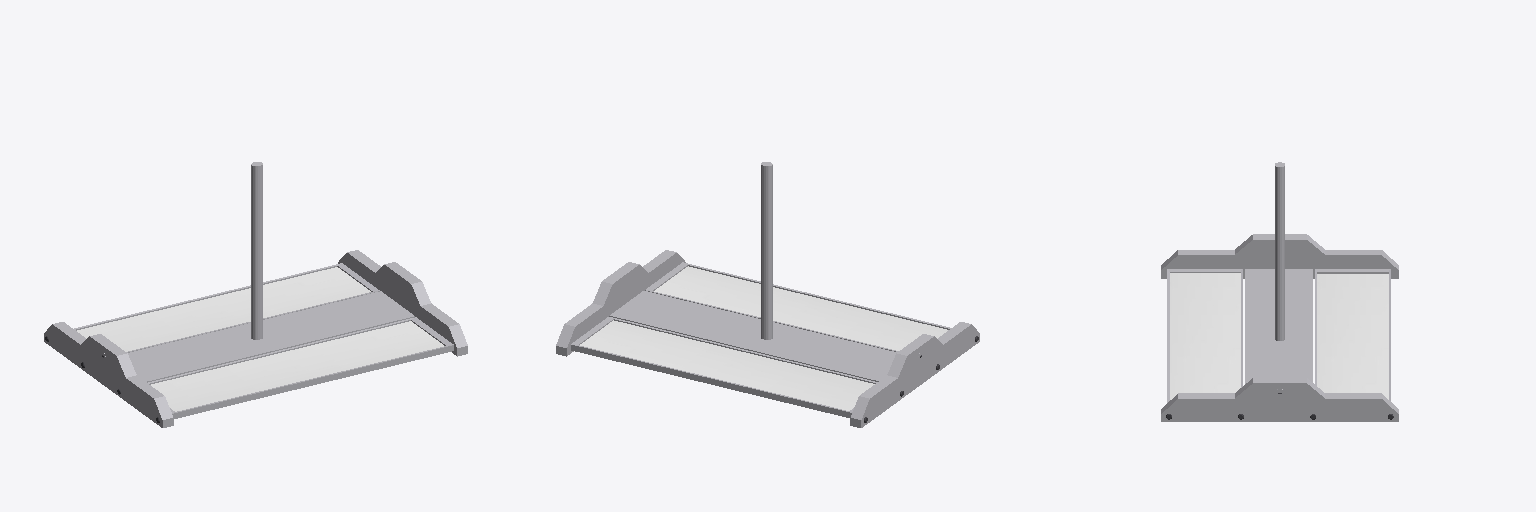
The picture shows the model from 3 angles: view 1: azimuth 30°, elevation 25°; view 2: azimuth 150°, elevation 25°; view 3: azimuth 270°, elevation 25°; orthographic projection.
Visible parts, largest first — view 1: luz_techo:polySurface10; view 2: luz_techo:polySurface10; view 3: luz_techo:polySurface10.
Boxes of the visible parts, box(x1,y1,x2,y2) form: luz_techo:polySurface10: box(44, 162, 467, 427); luz_techo:polySurface10: box(556, 162, 979, 427); luz_techo:polySurface10: box(1161, 162, 1398, 421).
Size of the model in its own units: 0.9881 by 0.5618 by 0.6589.
Materials: 5 (3 with a texture image).